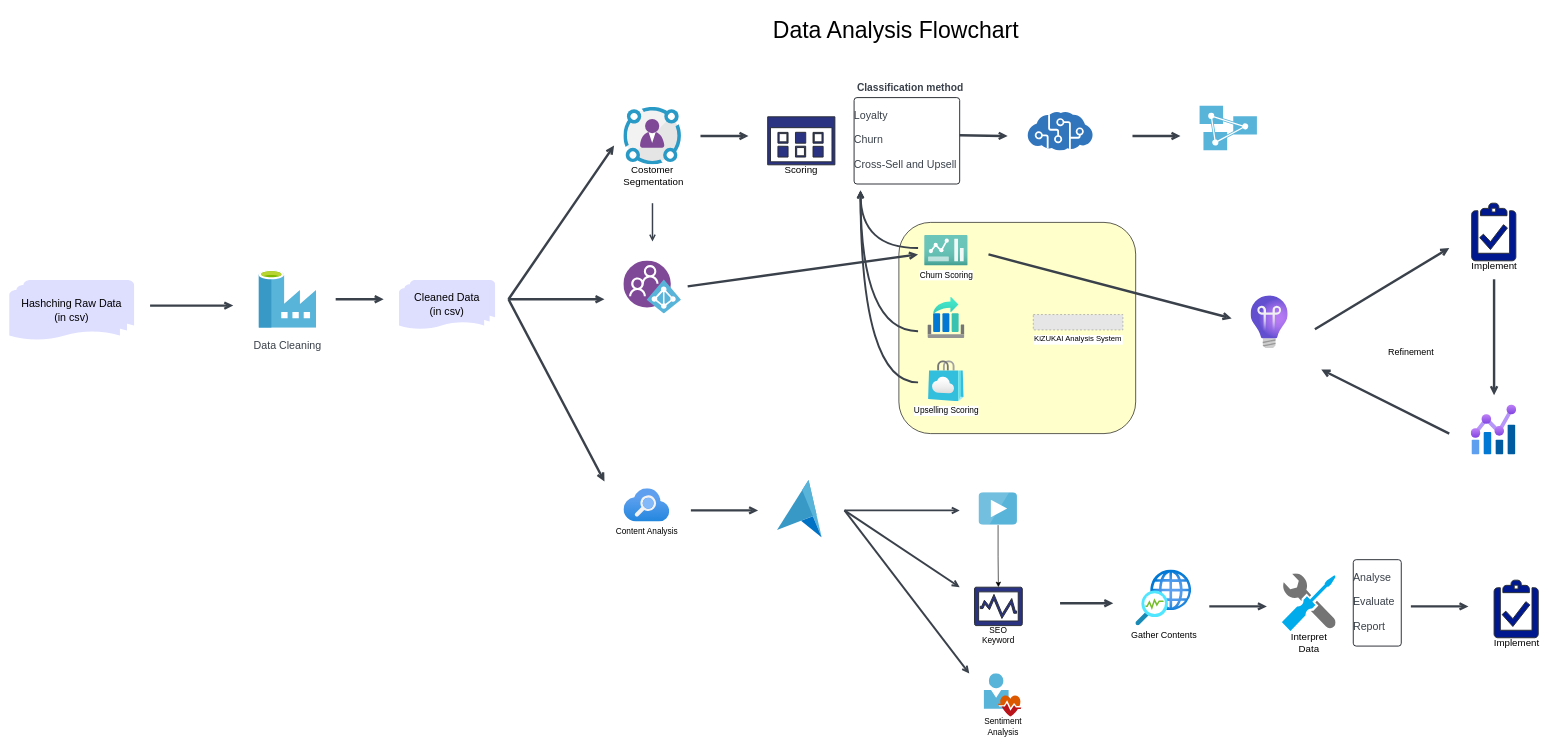
The diagram is 1549 pixels wide and 748 high, and some of its shapes have lost their labels. Grey dashed boxes stand in for pictures. Each missing label, with the centre of its shape:
"Churn Analysis" goes at (652,287).
"Clustering Based on scores" goes at (1060,131).
"Cross-Selling Scoring" goes at (945,317).
"Design Marketing Strategies for different custers" goes at (1228,128).
"Design Marketing Strategy" goes at (1269,321).
"Evaluation" goes at (1493,429).
"Media Effectiveness" goes at (998,508).
"Objectives" goes at (799,509).
